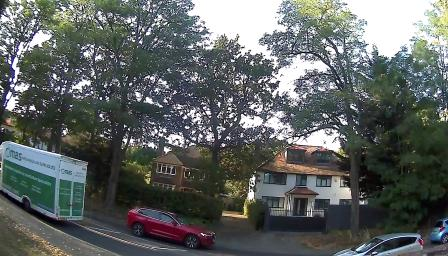Cars: (2, 140, 88, 225), (125, 210, 220, 252), (336, 223, 442, 256), (424, 218, 448, 256)
